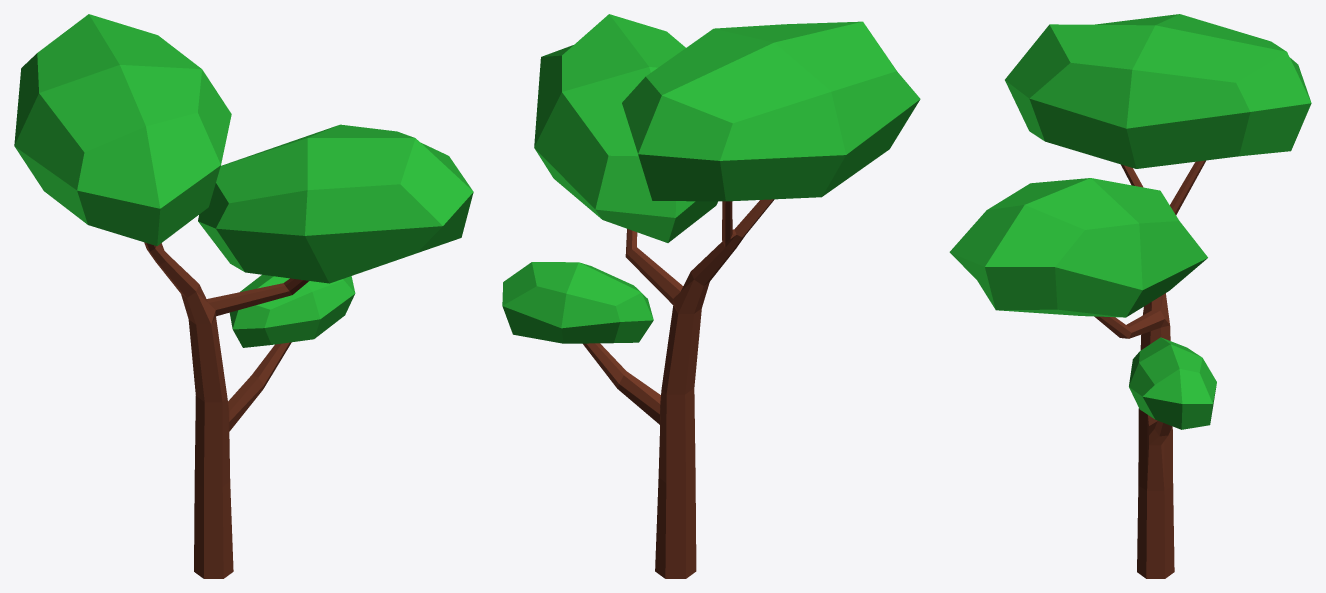
File: Tree6.fbx
3 renders of one model, left to right at view 1: azimuth 30°, elevation 25°; view 2: azimuth 150°, elevation 25°; view 3: azimuth 270°, elevation 25°, orthographic. The views are drawn at different scales.
Visible parts, largest first — view 1: Куб.001; view 2: Куб.001; view 3: Куб.001.
Part boxes in pixels (x1,y1,x2,y2): Куб.001: (14,14,473,578); Куб.001: (502,14,920,578); Куб.001: (949,14,1311,578).
Bounding box in the file's own units: 336 × 462 × 302.
